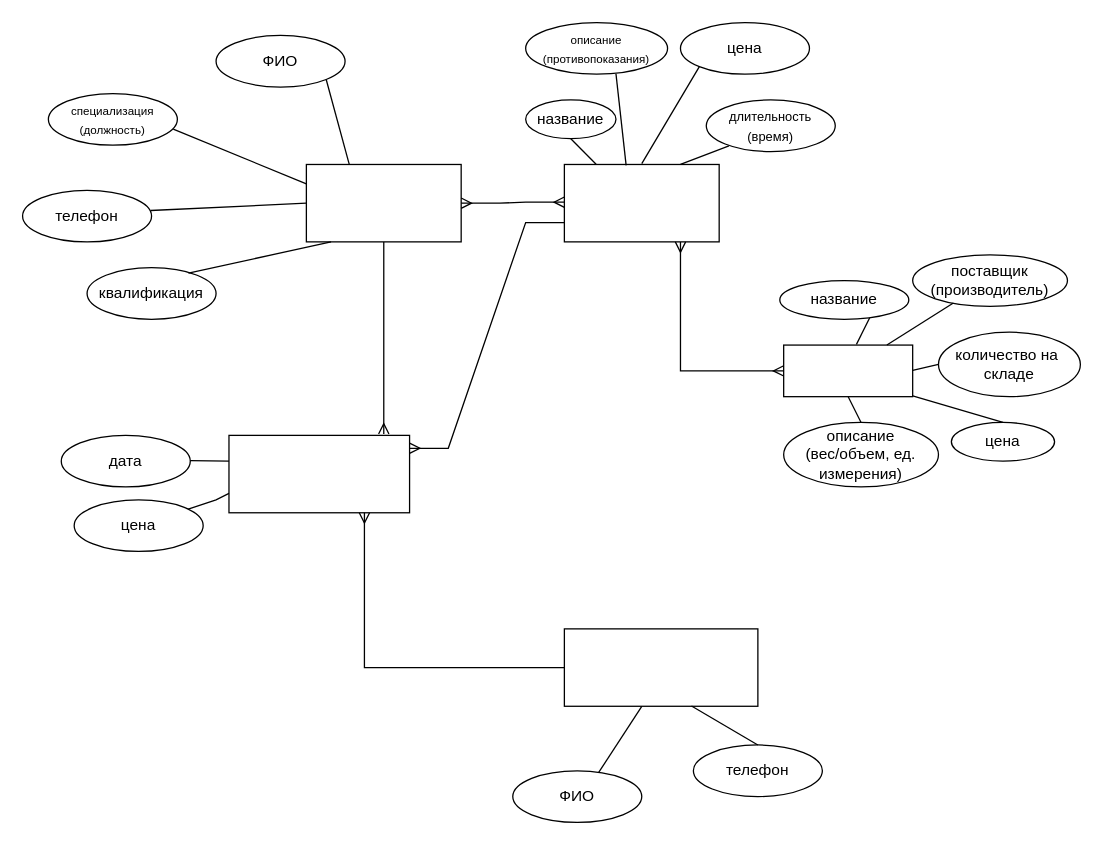
Some shapes in this 1103 by 845 pixel diagram are drawn without their labels. The shapes that lost their labels are listed below. From the top down, each one's box as (x1, y1, x2, y2) in pixels, then its label:
(305, 163, 461, 242): парикмахер
(563, 163, 719, 242): услуга
(782, 344, 913, 397): материал
(228, 434, 410, 513): выполненная работа
(563, 628, 758, 706): клиент
